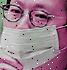with_mask: (2, 1, 67, 70)
